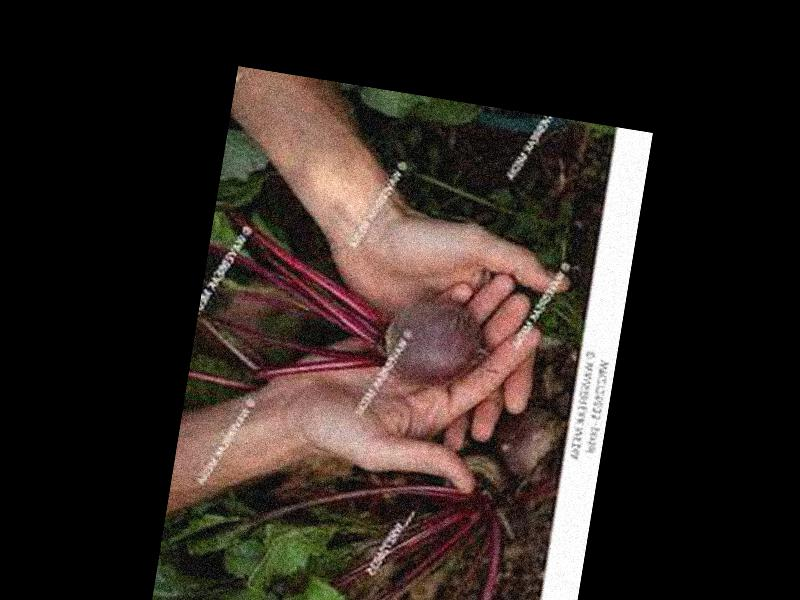Beet: (198, 204, 505, 415)
